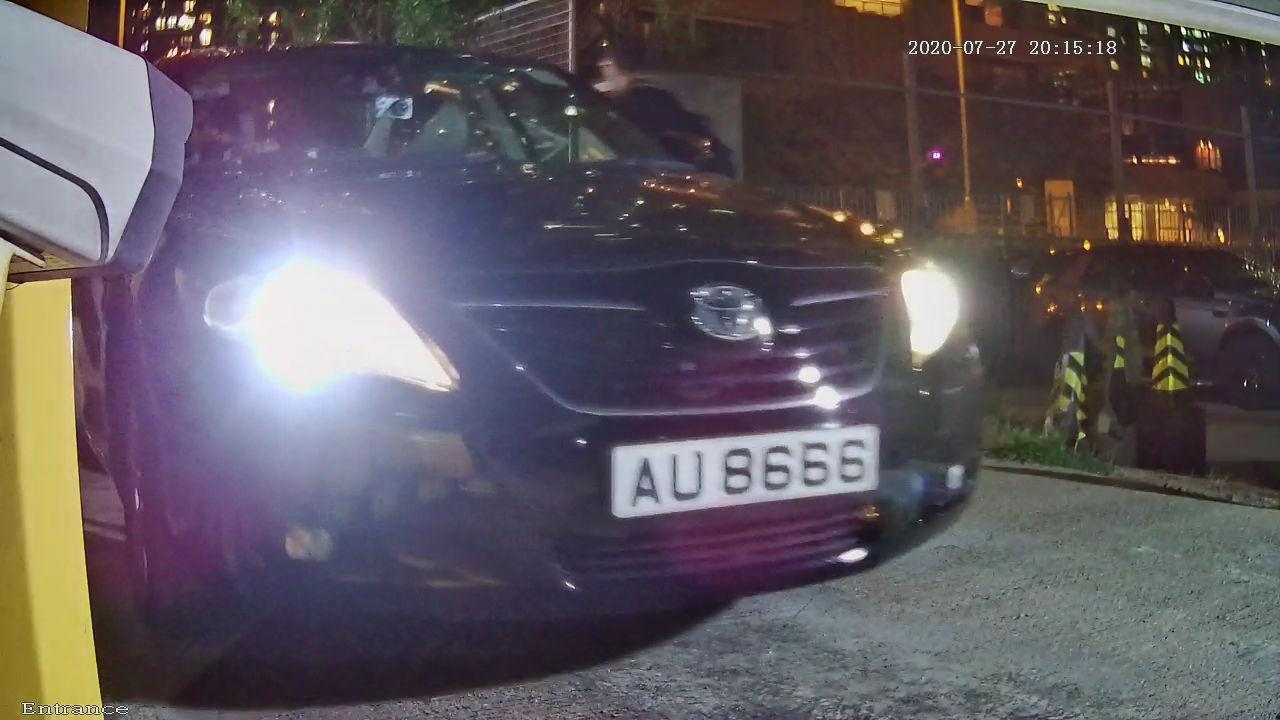privatecar: (86, 13, 1041, 676)
